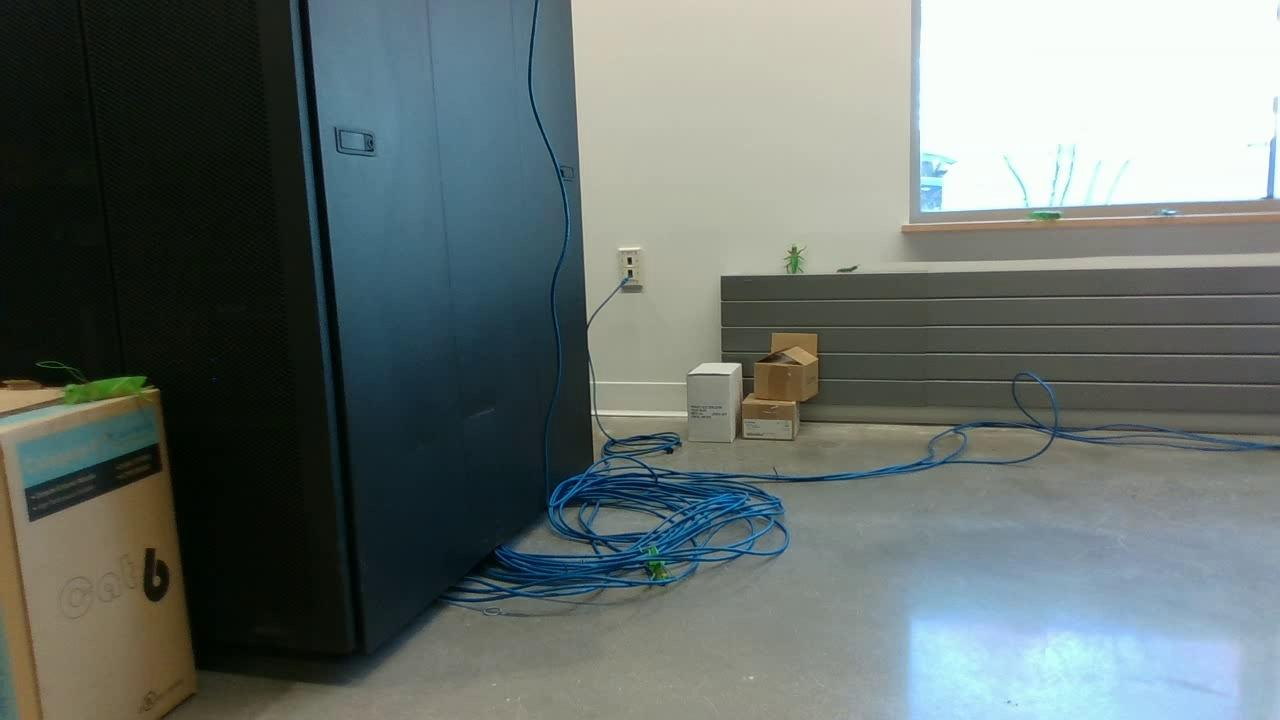grasshopper: (56, 375, 156, 400), (640, 542, 671, 585), (779, 242, 805, 275), (1027, 209, 1063, 219)
